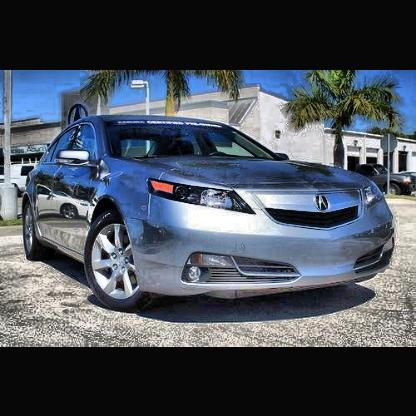Acura TL Sedan 2012: (23, 111, 398, 309)
